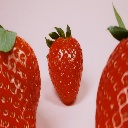strawberry: (1, 26, 42, 128), (95, 30, 128, 128), (46, 26, 83, 105)
